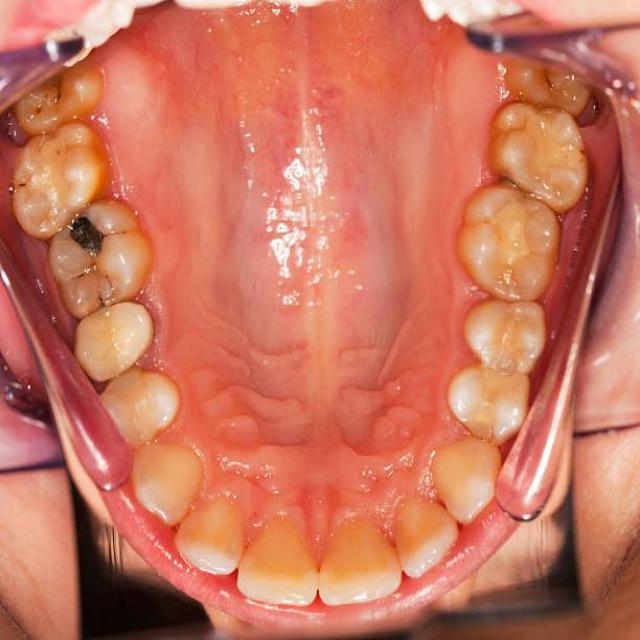caries: (60, 207, 116, 264), (70, 266, 120, 314), (29, 77, 72, 119), (528, 60, 567, 103)
